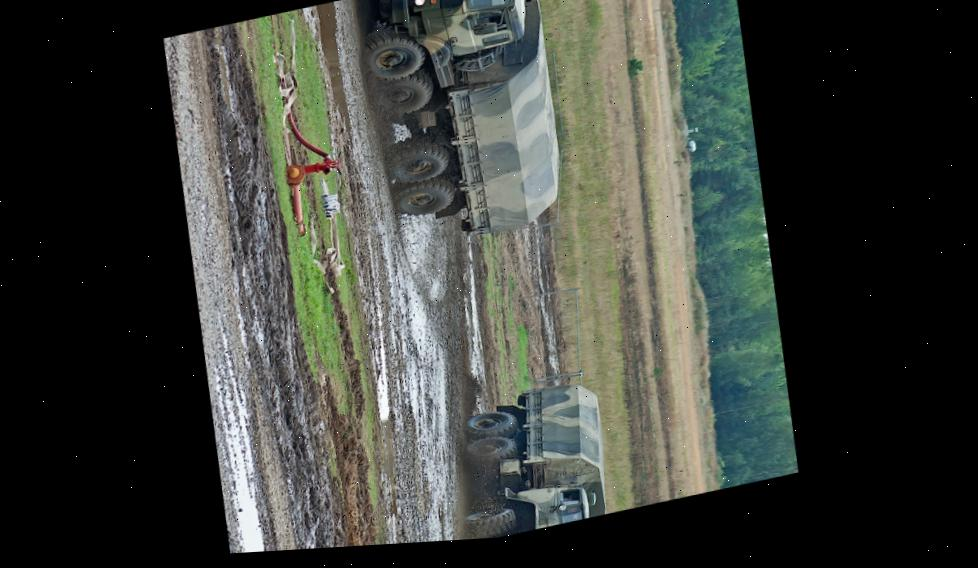truck: (348, 0, 576, 261), (447, 372, 615, 541)
